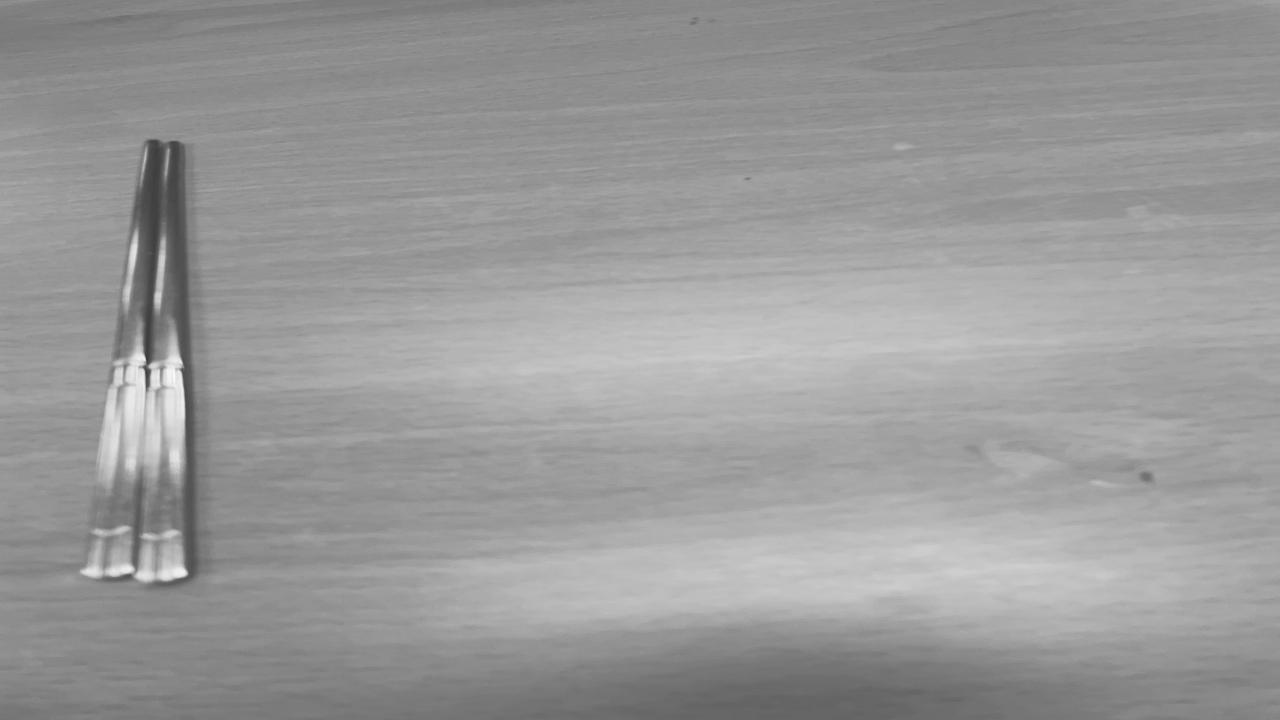chopstick: (87, 139, 190, 580)
